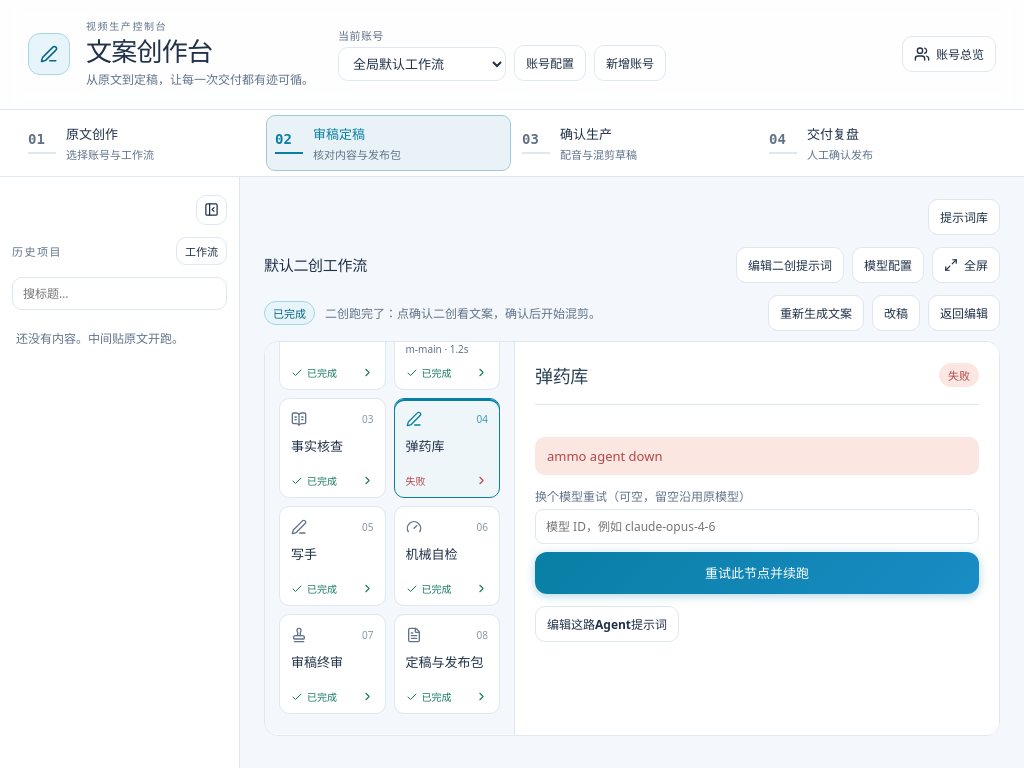
run workbench opens the workflow view and inspects the failed stage
(page scrolled)
Expected: the button "05 写手 已完成" is shown, [279,506,386,606]
Expected: the button "07 审稿终审 已完成" is shown, [279,614,386,714]
Note: 审稿节点：结论按人话展示，原始 JSON 收进折叠
Click the text "审稿终审" at {"x": 317, "y": 662}, box [291,653,343,671]
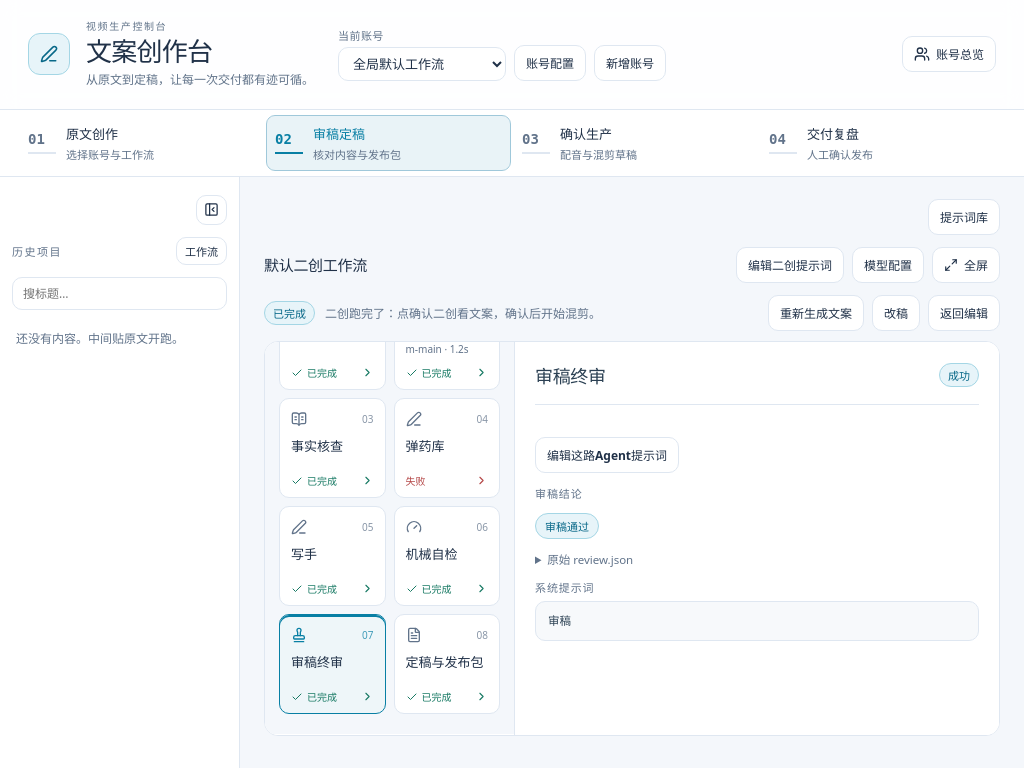
Now the text "审稿通过" is shown, box [535,513,599,539]
Now the heading "原始 review.json" is shown, box [547,552,633,567]
